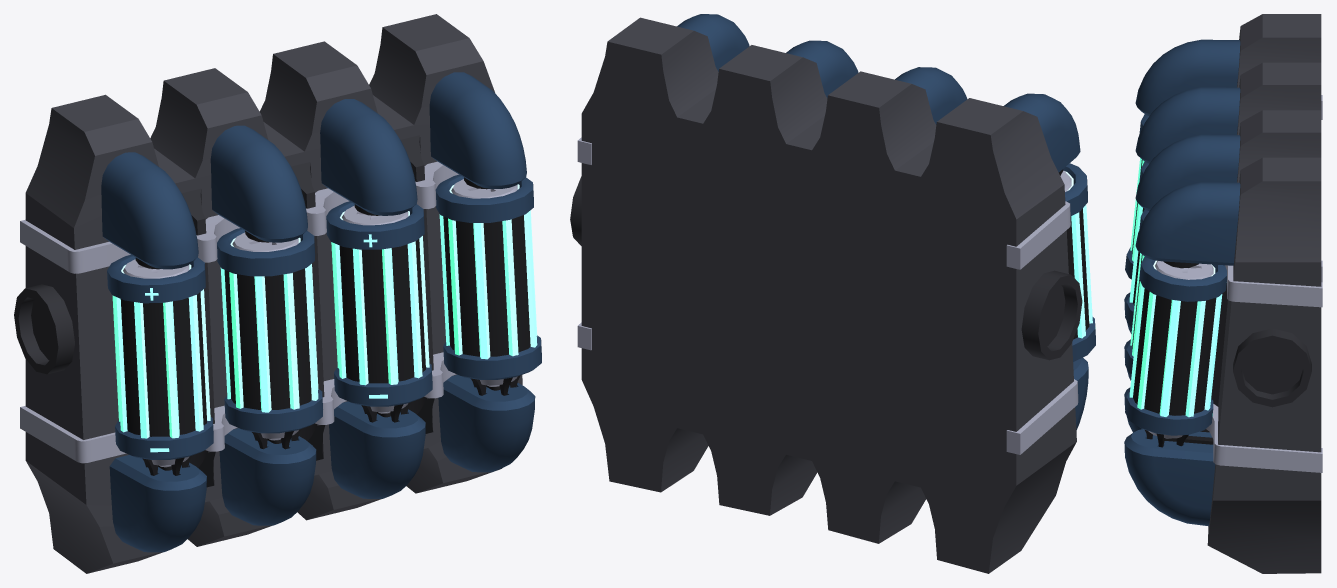
The model's file is Misc_BatteryCharger_X4_B.glb.
3 renders of one model, left to right at view 1: azimuth 30°, elevation 25°; view 2: azimuth 150°, elevation 25°; view 3: azimuth 270°, elevation 25°, orthographic. The views are drawn at different scales.
Parts seen in each view (by area): view 1: Misc_BatteryCharger_X4_B.001; view 2: Misc_BatteryCharger_X4_B.001; view 3: Misc_BatteryCharger_X4_B.001.
Part boxes in pixels (<box>): Misc_BatteryCharger_X4_B.001: <box>14,14,541,573</box>; Misc_BatteryCharger_X4_B.001: <box>570,14,1095,573</box>; Misc_BatteryCharger_X4_B.001: <box>1124,14,1322,573</box>.
Bounding box in the file's own units: 0.344 × 0.3091 × 0.141.
